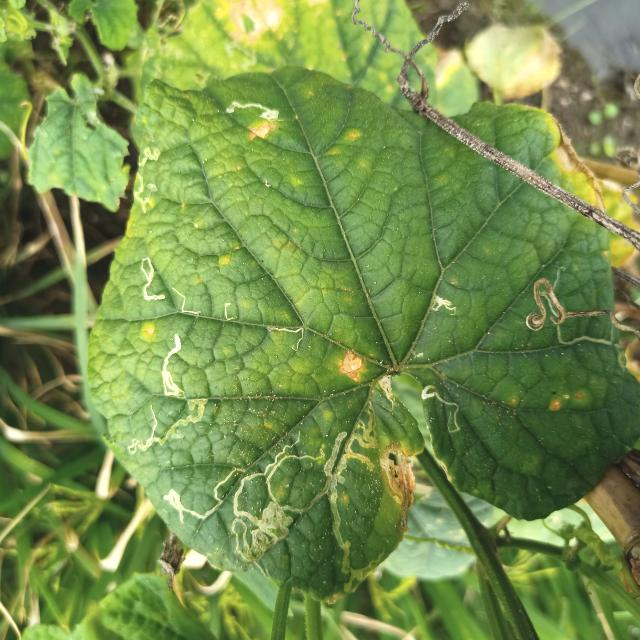disease_cucumber: (336, 347, 365, 381), (246, 119, 274, 143), (143, 321, 158, 337)
